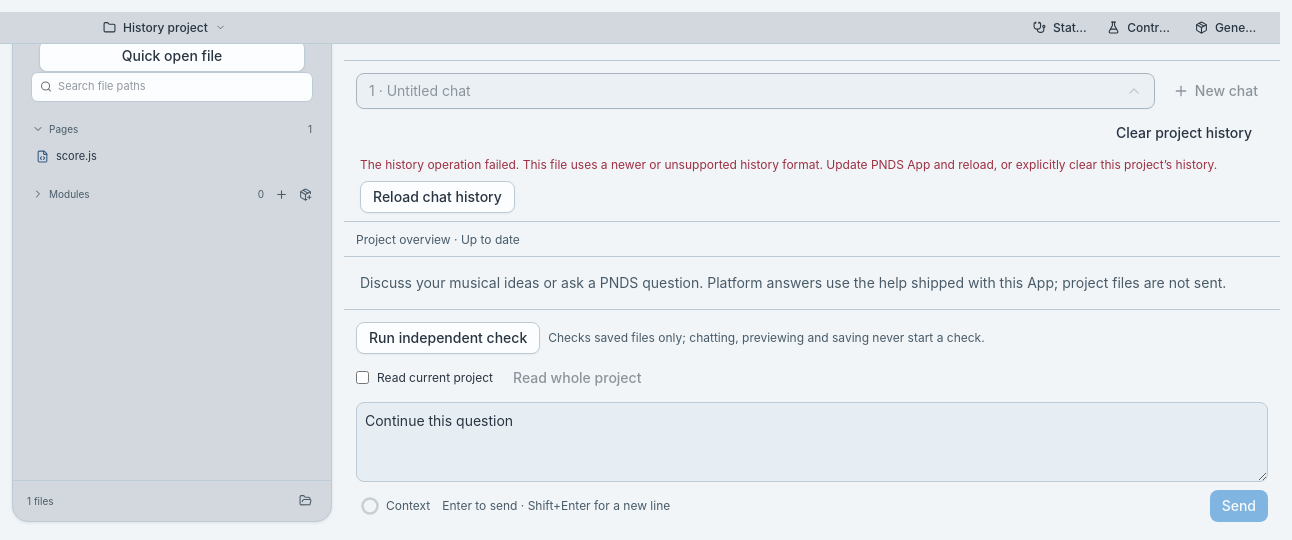
Test: project assistant history (#167) › offers a manual history reload for an unsupported version and keeps Send blocked until recovery
expect the message shows "newer or unsupported history format": met, box [523,157,1217,172]
expect the button "Send" is disabled: met, box [1210,490,1268,522]
Click the button "Reload chat history" at (437, 197), box [360,181,515,213]
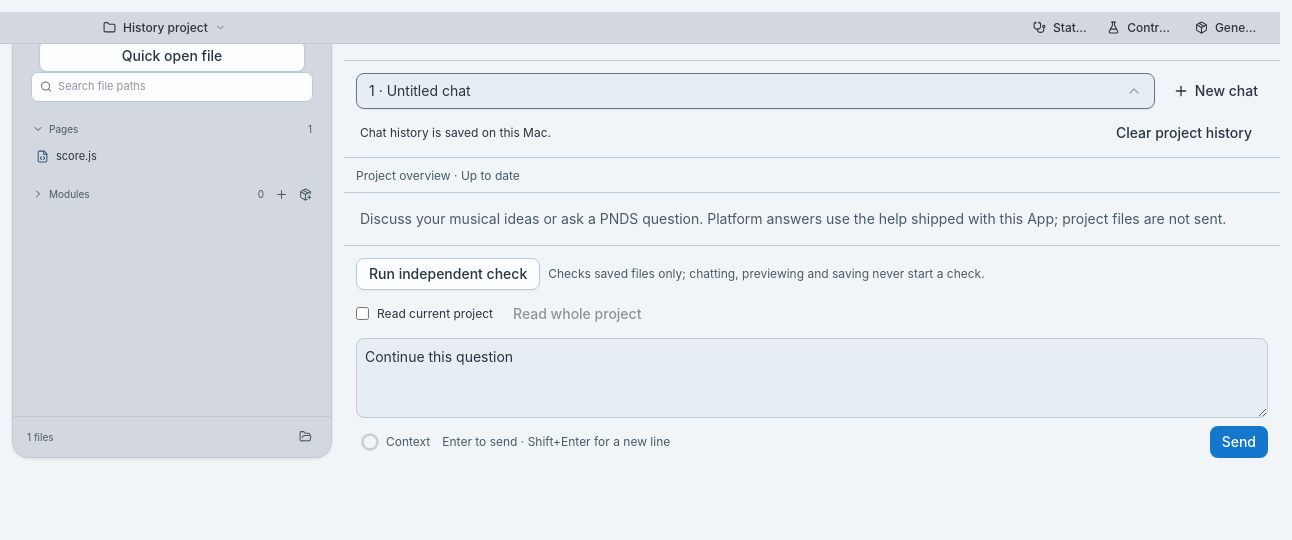
expect the text "Chat history is saved on this Mac." is shown: met, box [360,125,551,141]
expect the button "Send" is enabled: met, box [1210,426,1268,458]
